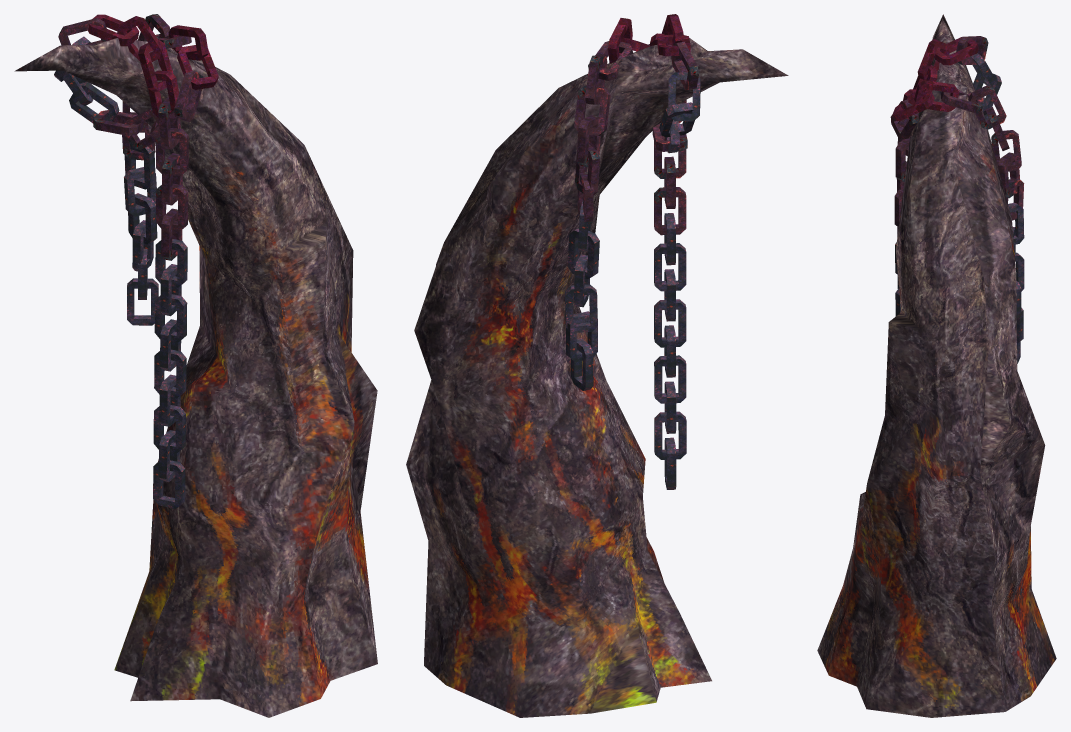
The model's file is horn02.fbx.
3 renders of one model, left to right at view 1: azimuth 30°, elevation 25°; view 2: azimuth 150°, elevation 25°; view 3: azimuth 270°, elevation 25°, orthographic. The views are drawn at different scales.
Parts seen in each view (by area): view 1: horn02; view 2: horn02; view 3: horn02.
Part boxes in pixels (x1=…): horn02: x1=14, y1=14, x2=377, y2=717; horn02: x1=406, y1=14, x2=788, y2=717; horn02: x1=817, y1=14, x2=1056, y2=717.
Bounding box in the file's own units: 10.01 × 17.95 × 6.68.
